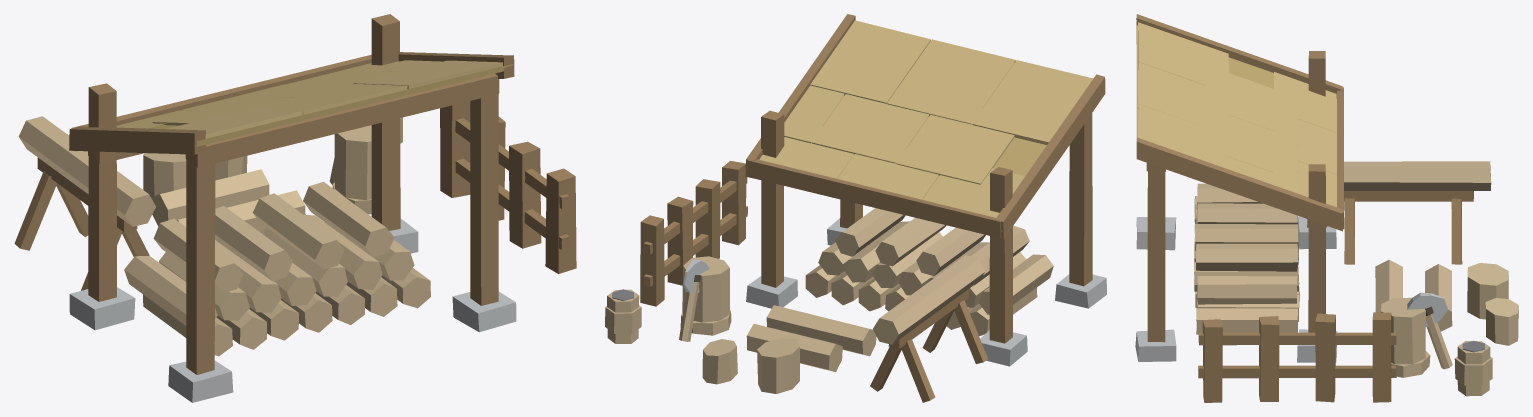
3 views of the same model, side by side, from view 1: azimuth 30°, elevation 25°; view 2: azimuth 150°, elevation 25°; view 3: azimuth 270°, elevation 25° (orthographic). The views are drawn at different scales.
Parts seen in each view (by area): view 1: lc_building; view 2: lc_building; view 3: lc_building.
Part boxes in pixels (x1=…): lc_building: x1=14, y1=14, x2=576, y2=402; lc_building: x1=605, y1=14, x2=1106, y2=402; lc_building: x1=1135, y1=14, x2=1518, y2=402.
Size of the model in its own units: 2.86 by 1.75 by 2.72.
